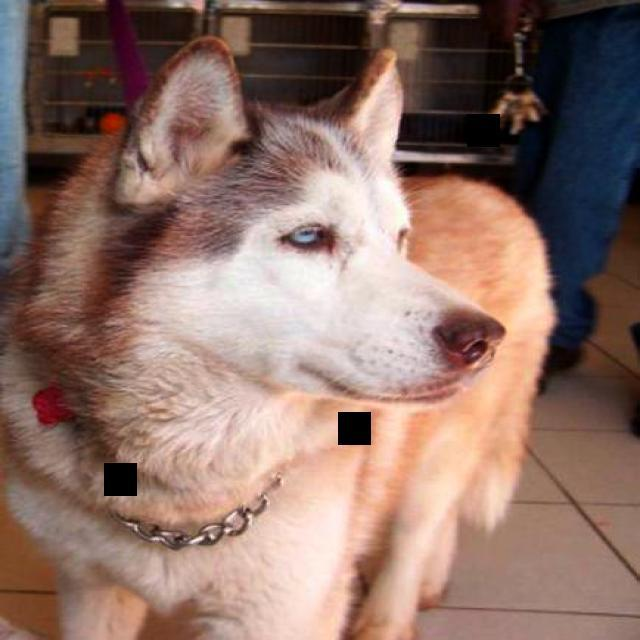adult_dog: (0, 34, 557, 640)
